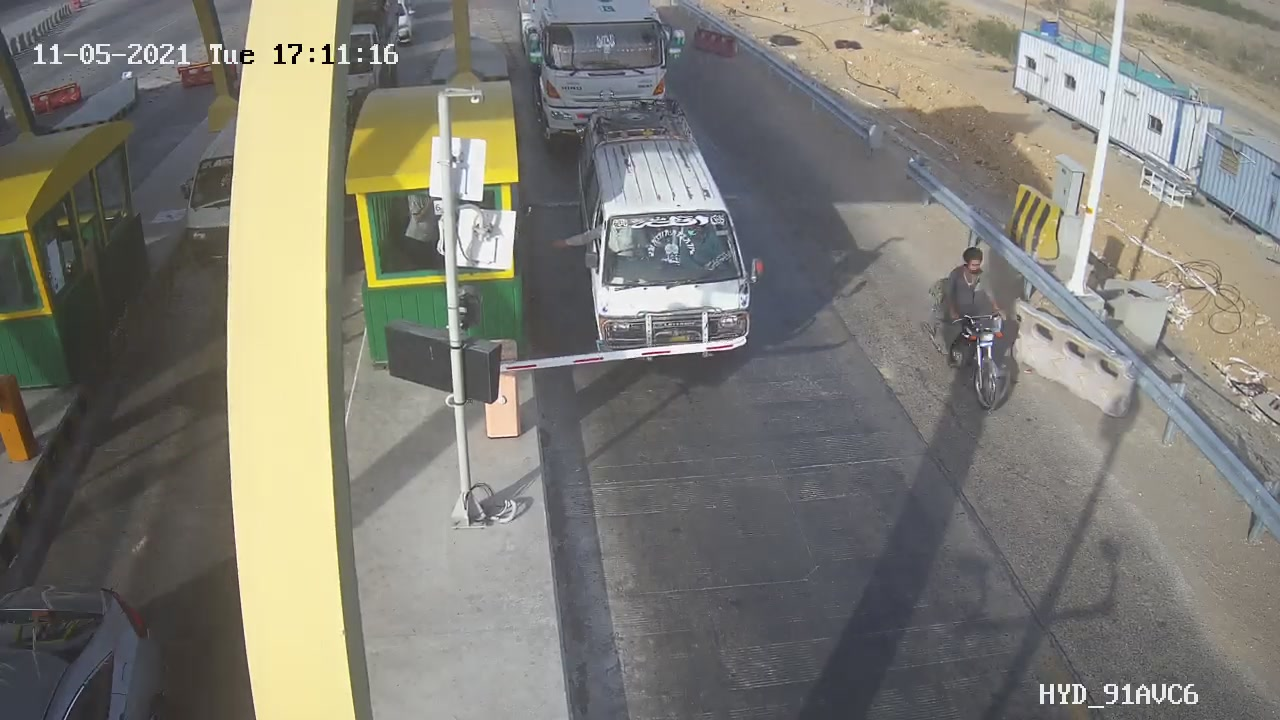F2: (556, 85, 783, 385)
